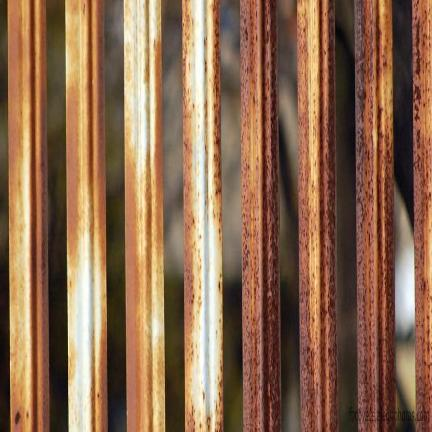karat: (124, 0, 165, 430)
